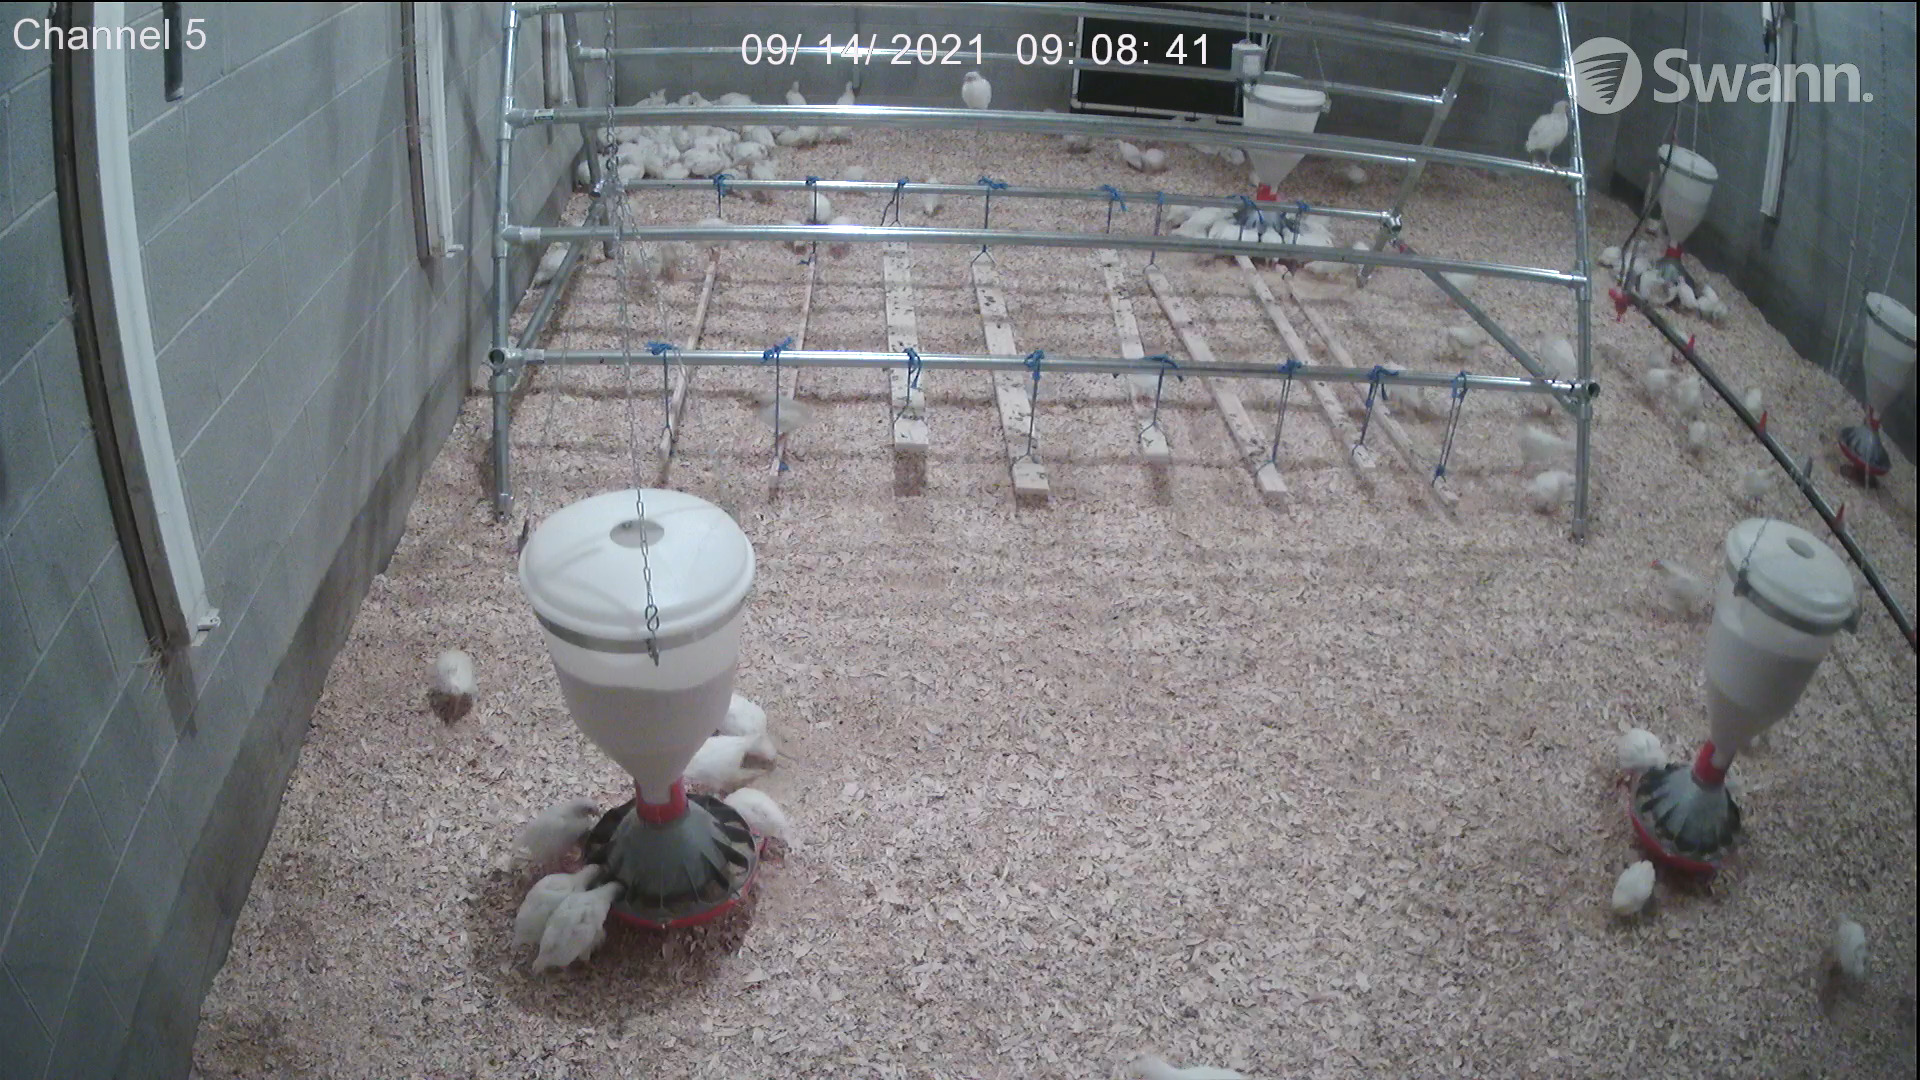Perching: (1516, 87, 1578, 179), (741, 378, 808, 444), (944, 62, 1006, 123), (694, 207, 736, 266)
